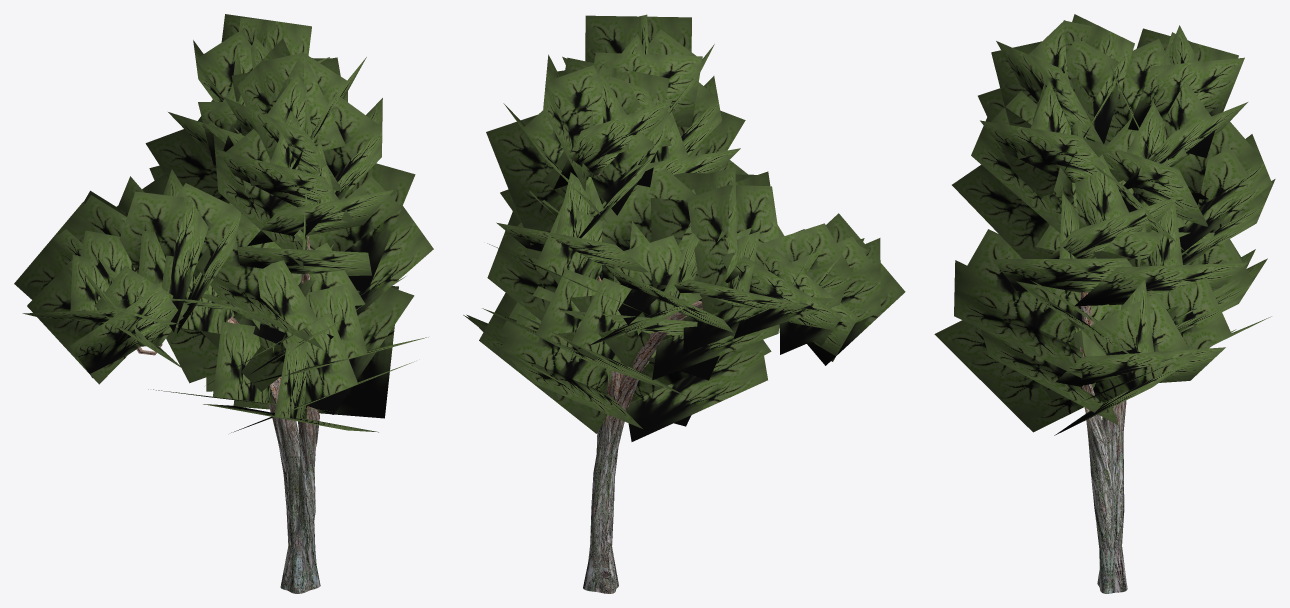
Rendered from SmallTree_02_v1.fbx.
3 renders of one model, left to right at view 1: azimuth 30°, elevation 25°; view 2: azimuth 150°, elevation 25°; view 3: azimuth 270°, elevation 25°, orthographic.
Parts seen in each view (by area): view 1: tree.010; view 2: tree.010; view 3: tree.010.
Boxes of the visible parts, x1=… form: tree.010: x1=14, y1=14, x2=433, y2=593; tree.010: x1=463, y1=14, x2=905, y2=593; tree.010: x1=934, y1=14, x2=1275, y2=593.
Size of the model in its own units: 1129 by 1516 by 845.
